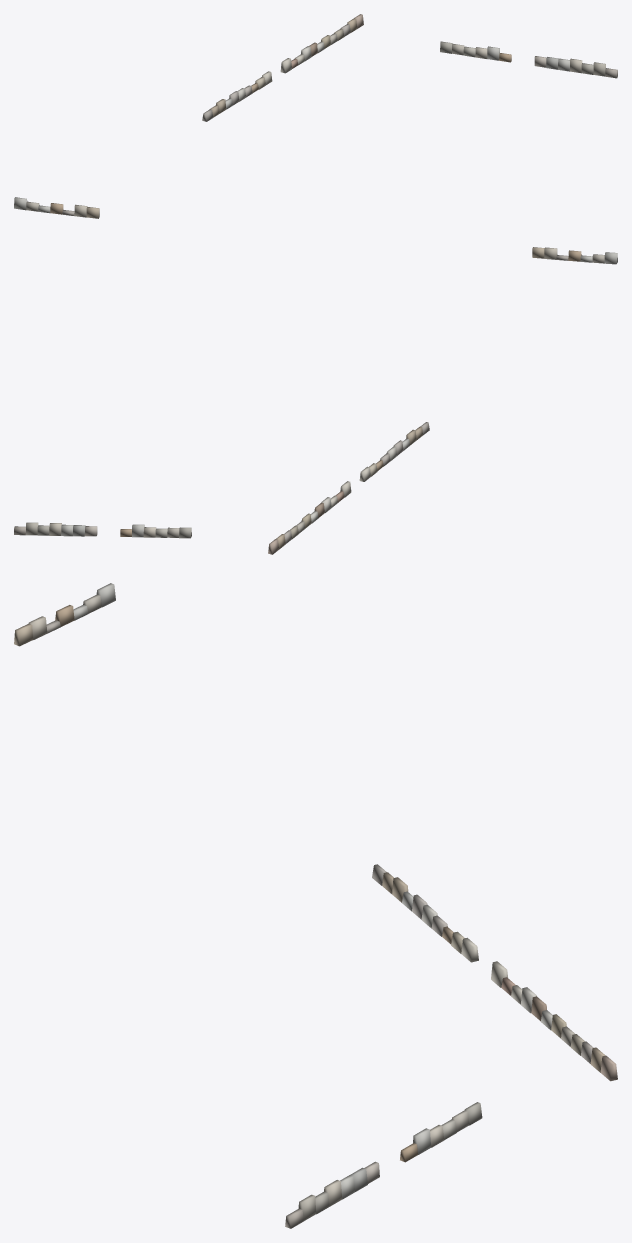
File: farm_-2_6_collision.glb
The picture shows the model from 3 angles, top to bottom: view 1: azimuth 30°, elevation 25°; view 2: azimuth 210°, elevation 25°; view 3: azimuth 270°, elevation 25°; orthographic projection. The views are drawn at different scales.
Visible parts, largest first — view 1: geometry_0; view 2: geometry_0; view 3: geometry_0.
Part boxes in pixels (left/top/right/bottom): geometry_0: left=14, top=14, right=617, bottom=218; geometry_0: left=14, top=247, right=617, bottom=554; geometry_0: left=14, top=583, right=617, bottom=1228.
Size of the model in its own units: 95.46 by 11.06 by 47.05.
